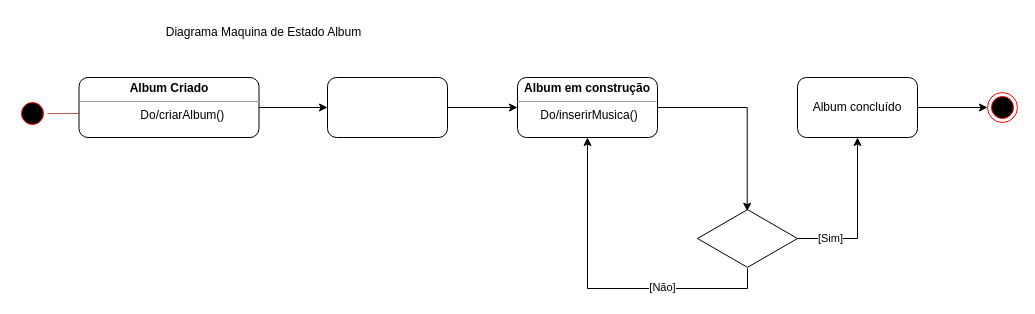
Image size: 1035x314. Some labels were removed from this diagram. The shapes that lost their labels are listed below. From the top down, each one's box as (x1, y1, x2, y2) in pixels, then its label:
(326, 76, 448, 138): Album Vazio
(696, 208, 798, 268): Album finalizado?
